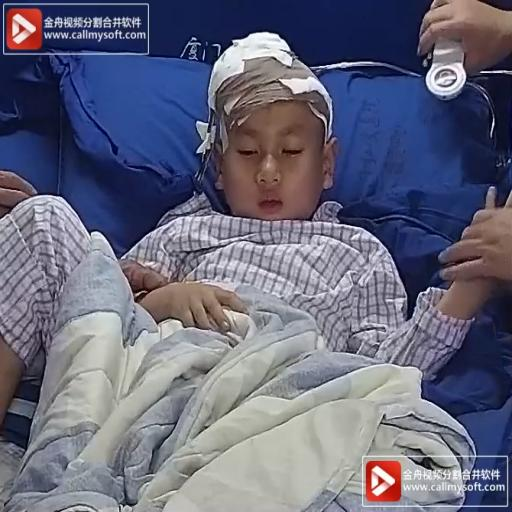Seizure: (189, 50, 349, 226)
